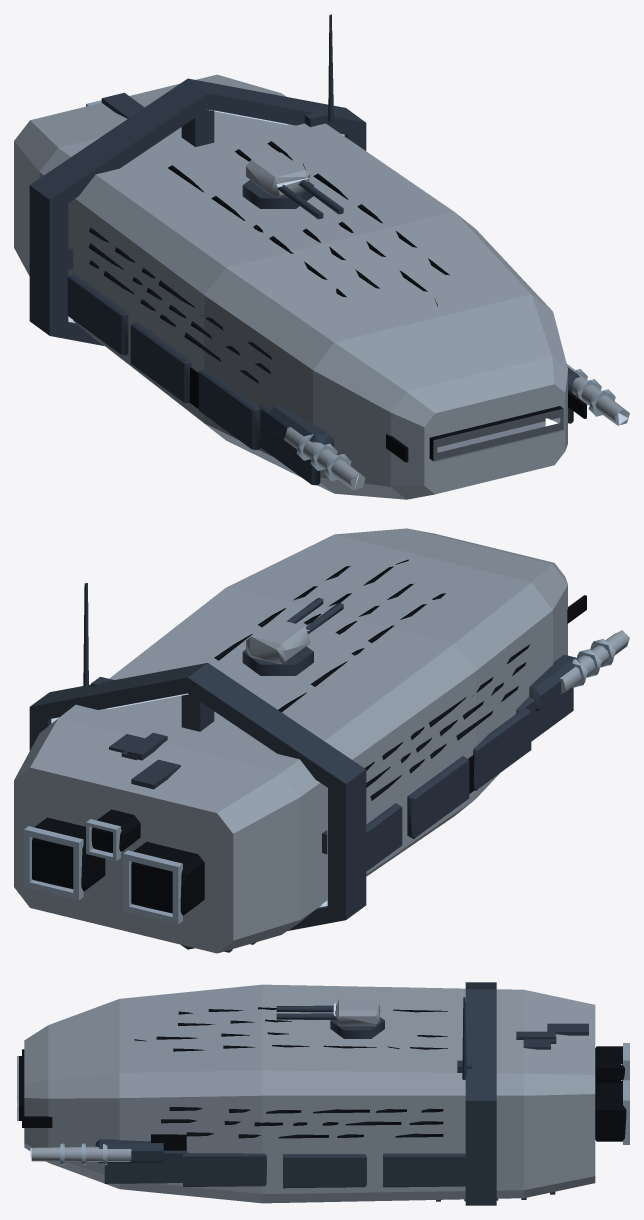
File: paragraf-wykonawcy-hawk-9-lod1.glb
The picture shows the model from 3 angles, top to bottom: view 1: azimuth 30°, elevation 25°; view 2: azimuth 150°, elevation 25°; view 3: azimuth 270°, elevation 25°; orthographic projection. The views are drawn at different scales.
Bounding box in the file's own units: 9.56 × 9.27 × 20.95.
